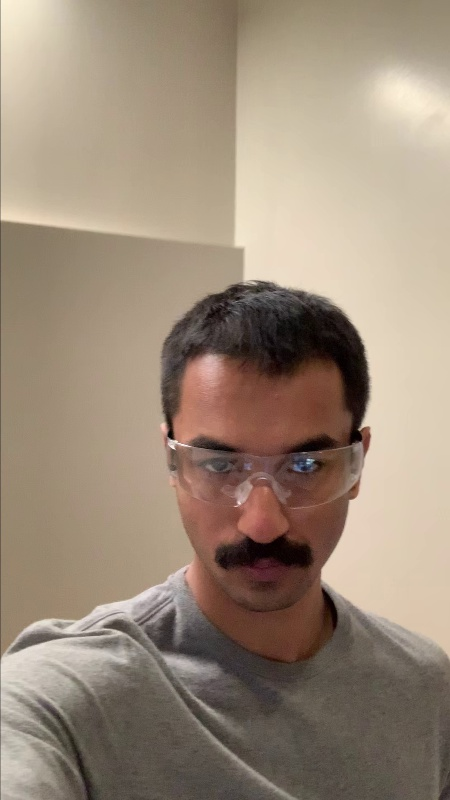glasses: (157, 426, 372, 505)
